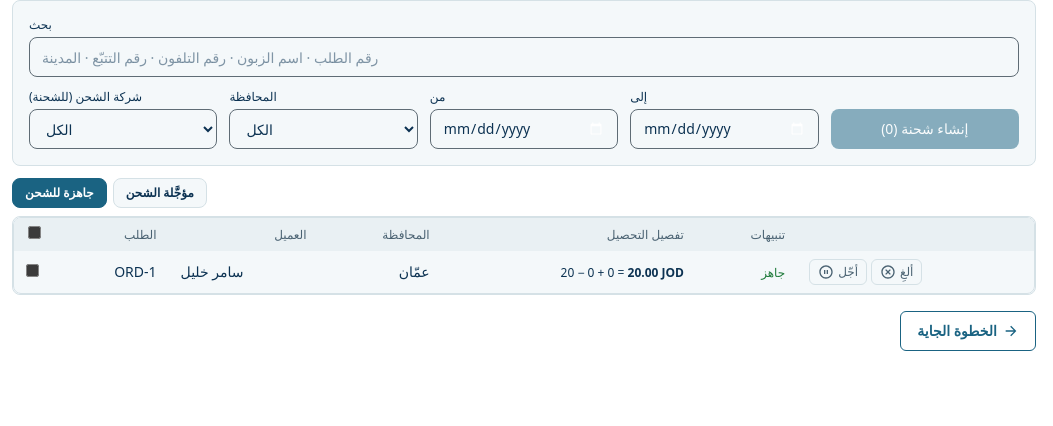
Test: the banner › NEGATIVE: somebody who may ship but not print gets the way to the batches, not a button its door refuses
Expected: the text "سامر خليل" is shown, [180,262,244,281]
Select "شركة الشحن أ" in the dropdown labelled "شركة الشحن (للشحنة)": (123, 129) [29,109,217,149]
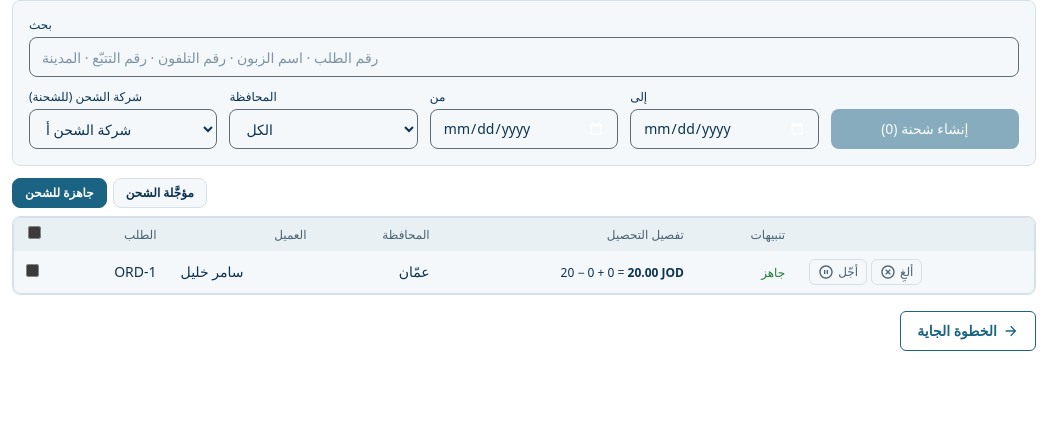
Click the checkbox named "اختر الكل": (34, 232) [28,226,40,239]
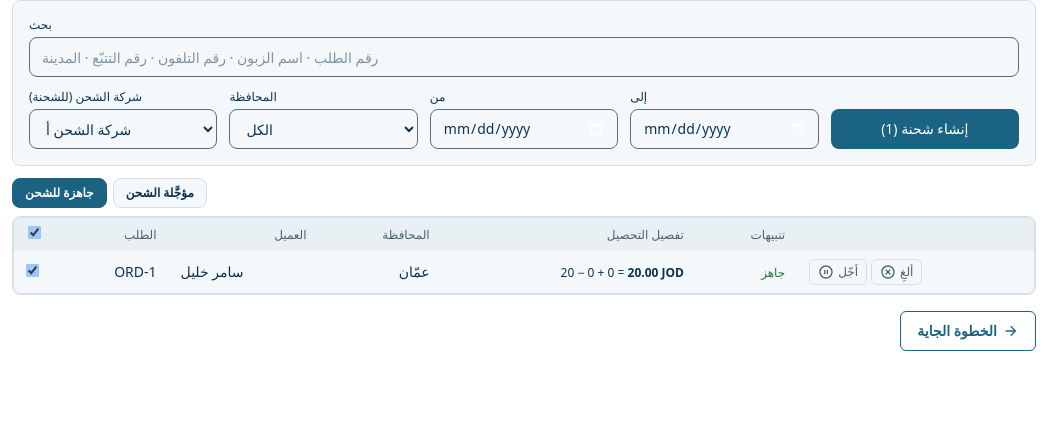
Click the button "إنشاء شحنة (1)": (925, 129) [831,109,1019,149]
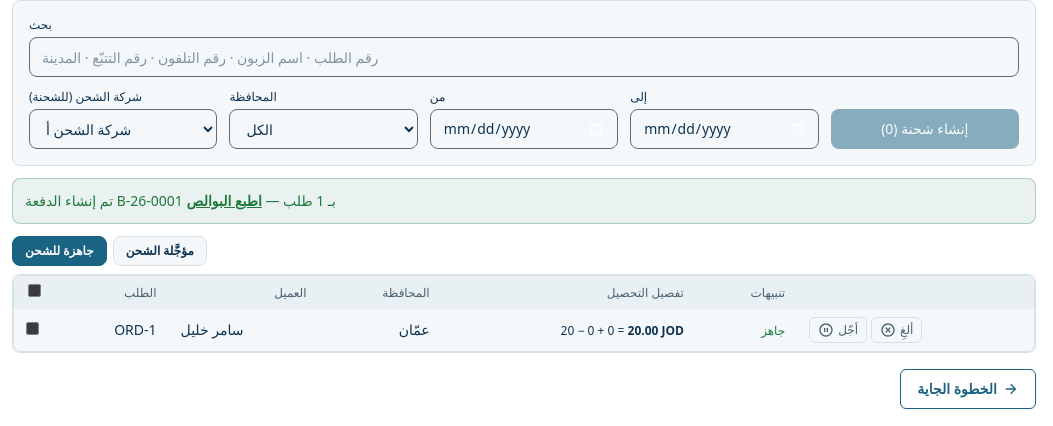
Expected: the text "تم إنشاء الدفعة B-26-0001 بـ 1 طلب — اطبع البوالص" is shown, [12,178,1036,224]
